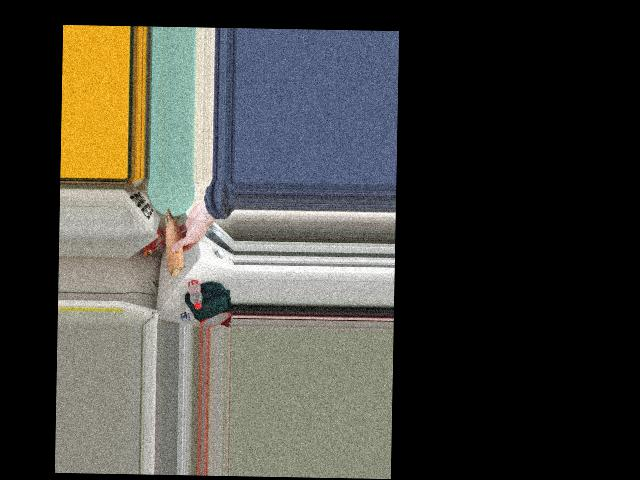sweet_potato: (165, 209, 184, 272)
